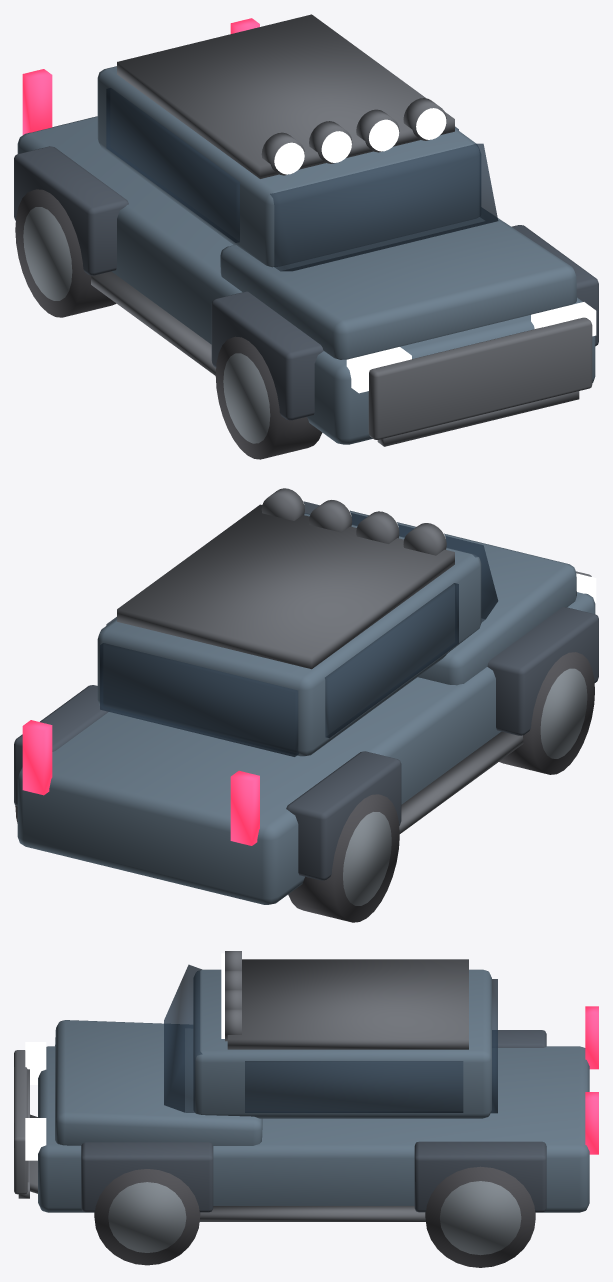
File: titan.glb
3 renders of one model, top to bottom at view 1: azimuth 30°, elevation 25°; view 2: azimuth 150°, elevation 25°; view 3: azimuth 270°, elevation 25°, orthographic. The views are drawn at different scales.
Parts seen in each view (by area): view 1: Chassis_Cabin, Chassis_Hood, Roof_Rack, Chassis_Lower, Window_Windshield, BrushGuard_Main, Window_Side_L, Fender_FL, Fender_RL, FL_Tire, RL_Tire, RL_Wheel_Rim (+15 smaller); view 2: Chassis_Lower, Chassis_Cabin, Roof_Rack, Window_Rear, Chassis_Hood, Window_Side_L, Fender_RL, Fender_FL, RL_Tire, FL_Tire, RL_Wheel_Rim, RockSlider_L (+9 smaller); view 3: Chassis_Lower, Chassis_Cabin, Roof_Rack, Chassis_Hood, Window_Side_R, Fender_FR, Fender_RR, RR_Wheel_Rim, Window_Windshield, FR_Wheel_Rim, RR_Tire, FR_Tire (+9 smaller).
Part boxes in pixels (<box>): Chassis_Cabin: <box>97,66,480,267</box>; Chassis_Hood: <box>220,208,576,359</box>; Roof_Rack: <box>117,14,454,178</box>; Chassis_Lower: <box>17,116,595,444</box>; Window_Windshield: <box>270,143,498,271</box>; BrushGuard_Main: <box>368,317,592,439</box>; Window_Side_L: <box>106,88,240,242</box>; Fender_FL: <box>211,291,323,420</box>; Fender_RL: <box>14,146,128,275</box>; FL_Tire: <box>215,336,322,459</box>; RL_Tire: <box>15,189,116,317</box>; RL_Wheel_Rim: <box>23,207,72,300</box>; Chassis_Lower: <box>17,592,595,904</box>; Chassis_Cabin: <box>97,513,481,756</box>; Roof_Rack: <box>117,504,454,669</box>; Window_Rear: <box>100,643,298,756</box>; Chassis_Hood: <box>350,510,576,685</box>; Window_Side_L: <box>325,583,458,738</box>; Fender_RL: <box>286,751,401,880</box>; Fender_FL: <box>487,607,598,735</box>; RL_Tire: <box>288,794,399,922</box>; FL_Tire: <box>499,652,594,774</box>; RL_Wheel_Rim: <box>343,812,391,905</box>; RockSlider_L: <box>399,731,523,833</box>; Chassis_Lower: <box>38,1046,589,1212</box>; Chassis_Cabin: <box>193,969,491,1118</box>; Roof_Rack: <box>227,959,468,1049</box>; Chassis_Hood: <box>55,1020,262,1145</box>; Window_Side_R: <box>245,1061,463,1112</box>; Fender_FR: <box>81,1142,213,1212</box>; Fender_RR: <box>414,1141,546,1212</box>; RR_Wheel_Rim: <box>440,1181,521,1255</box>; Window_Windshield: <box>164,964,202,1112</box>; FR_Wheel_Rim: <box>108,1182,186,1252</box>; RR_Tire: <box>425,1166,535,1267</box>; FR_Tire: <box>94,1169,200,1265</box>.
Size of the model in its own units: 2.71 by 2.12 by 5.09.
